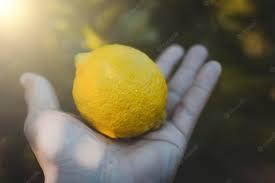lemon: (72, 44, 169, 140)
